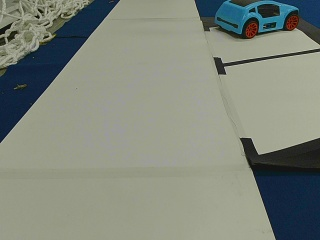car: (214, 2, 299, 37)
